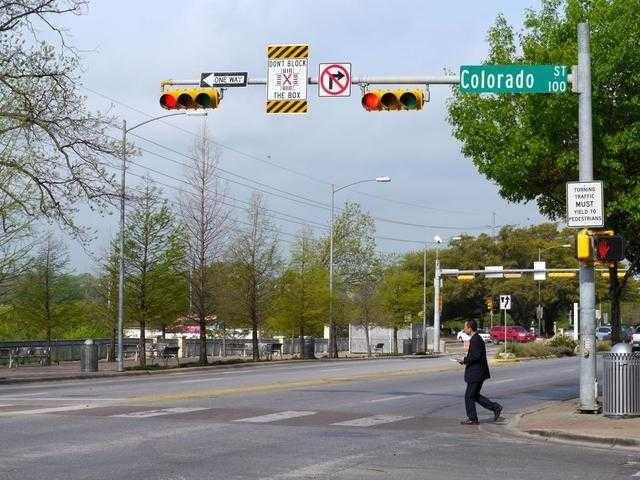red: (160, 86, 219, 112), (362, 89, 427, 111), (158, 91, 176, 113), (362, 91, 379, 113)
